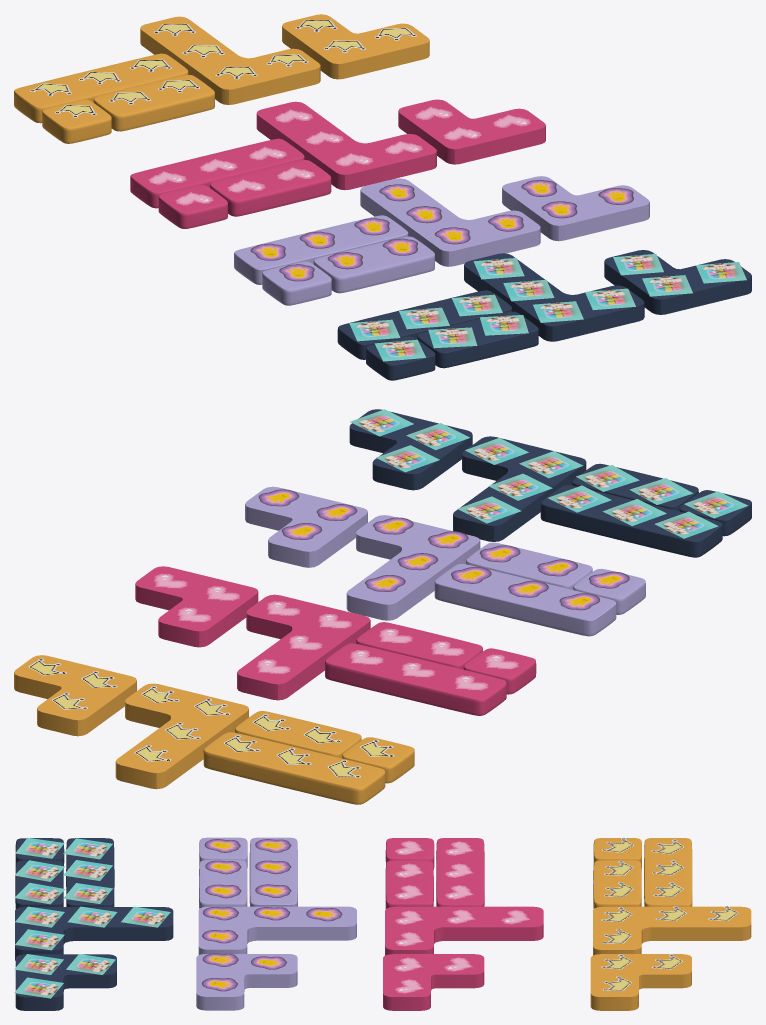
Rendered from Blocky Out_Bl hoa van.fbx.
3 views of the same model, one above another, from view 1: azimuth 30°, elevation 25°; view 2: azimuth 150°, elevation 25°; view 3: azimuth 270°, elevation 25° (orthographic). The views are drawn at different scales.
Visible parts, largest first — view 1: Blhoa.002, Blvm.003, Blsua.003, Cube.024, Blhoa.001, Blvm.001, Blsua.001, Bltym.001, Bltym.004, Blsua, Blvm.004, Blhoa (+9 smaller); view 2: Blsua.003, Blvm.003, Blhoa.002, Blhoa, Blsua, Blvm.004, Bltym.004, Cube.024, Blhoa.001, Bltym.001, Blvm.001, Blsua.001 (+9 smaller); view 3: Blsua.003, Blvm.003, Blhoa.002, Cube.024, Blhoa.001, Blvm.001, Bltym.001, Blsua.001, Blsua, Blhoa, Bltym.004, Blvm.004 (+9 smaller).
Boxes of the visible parts, x1=… form: Blhoa.002: x1=464, y1=253, x2=644, y2=341; Blvm.003: x1=140, y1=16, x2=320, y2=104; Blsua.003: x1=360, y1=178, x2=540, y2=266; Cube.024: x1=256, y1=101, x2=436, y2=190; Blhoa.001: x1=604, y1=250, x2=751, y2=314; Blvm.001: x1=282, y1=14, x2=429, y2=79; Blsua.001: x1=502, y1=176, x2=649, y2=241; Bltym.001: x1=398, y1=99, x2=545, y2=164; Bltym.004: x1=130, y1=138, x2=304, y2=208; Blsua: x1=234, y1=215, x2=408, y2=284; Blvm.004: x1=14, y1=53, x2=188, y2=123; Blhoa: x1=337, y1=290, x2=511, y2=359; Blsua.003: x1=346, y1=515, x2=480, y2=620; Blvm.003: x1=115, y1=683, x2=248, y2=789; Blhoa.002: x1=453, y1=436, x2=586, y2=541; Blhoa: x1=540, y1=485, x2=722, y2=557; Blsua: x1=434, y1=563, x2=616, y2=636; Blvm.004: x1=203, y1=732, x2=385, y2=804; Bltym.004: x1=325, y1=643, x2=506, y2=715; Cube.024: x1=237, y1=594, x2=370, y2=700; Blhoa.001: x1=349, y1=409, x2=472, y2=490; Bltym.001: x1=135, y1=566, x2=258, y2=647; Blvm.001: x1=14, y1=655, x2=136, y2=736; Blsua.001: x1=245, y1=486, x2=367, y2=567; Blsua.003: x1=198, y1=906, x2=356, y2=954; Blvm.003: x1=593, y1=906, x2=751, y2=955; Blhoa.002: x1=15, y1=906, x2=173, y2=960; Cube.024: x1=385, y1=906, x2=543, y2=955; Blhoa.001: x1=14, y1=954, x2=116, y2=1010; Blvm.001: x1=590, y1=954, x2=691, y2=1010; Bltym.001: x1=383, y1=954, x2=484, y2=1010; Blsua.001: x1=196, y1=953, x2=297, y2=1010; Blsua: x1=249, y1=837, x2=297, y2=906; Blhoa: x1=63, y1=838, x2=114, y2=906; Bltym.004: x1=436, y1=838, x2=484, y2=906; Blvm.004: x1=644, y1=838, x2=692, y2=906.
Size of the model in its own units: 14.99 by 28.51 by 0.7152.
